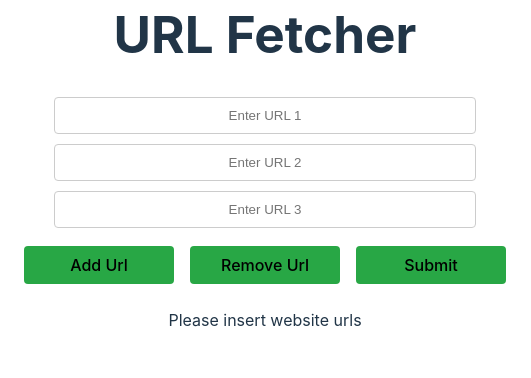
Test case: App Component › Displays an error message when server request fails
The image size is (531, 378).
Simulate form submission
In the field with placeholder "Enter URL 1": (265, 115) [54,97,476,134], type "http://example.com"
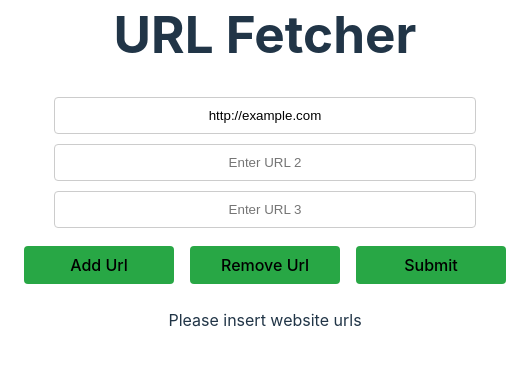
In the field with placeholder "Enter URL 2": (265, 162) [54,144,476,181], type "http://example.org"
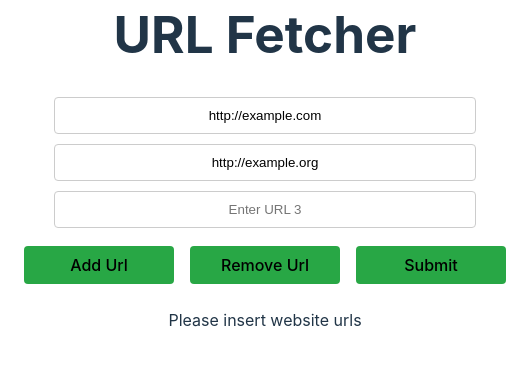
In the field with placeholder "Enter URL 3": (265, 209) [54,191,476,228], type "http://example.net"
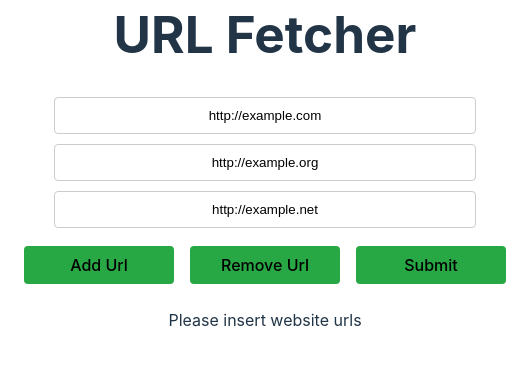
Click the button "Submit": click(431, 265) [356,246,506,284]
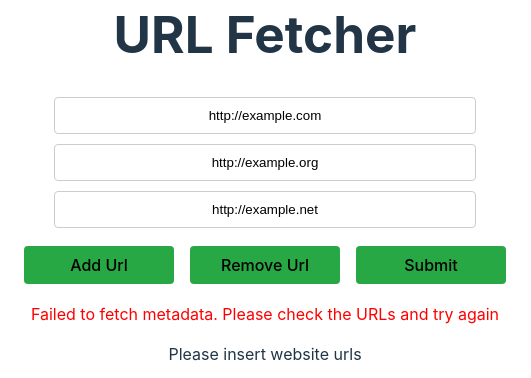
Check: the text "Failed to fetch metadata. Please check the URLs and try again" is shown, box [16,302,514,326]
